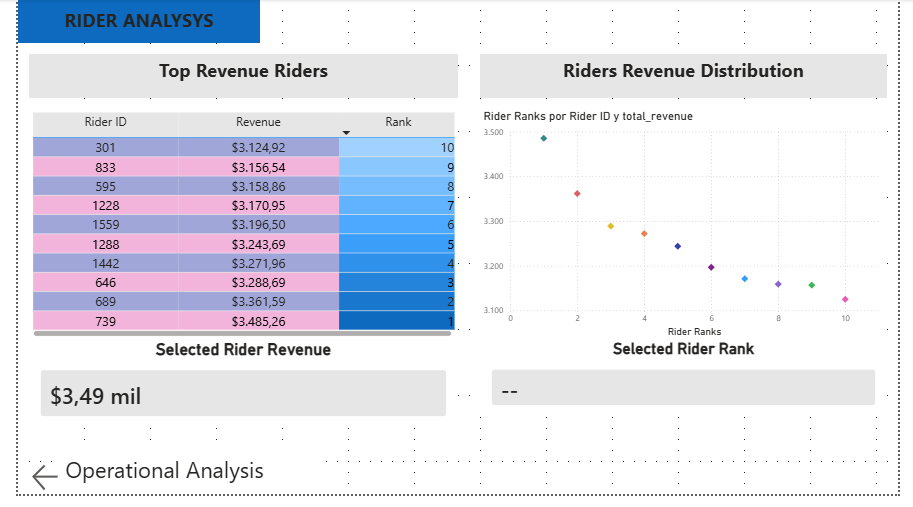

The dashboard page shown, as its layout file describes it:
{"tool":"powerbi","page":{"name":"Rider Analysis","canvas":[1280,720],"ordinal":3},"visuals":[{"type":"textbox","box":[0,0,352,64],"z":0},{"type":"textbox","box":[16,80,624,64],"z":1000},{"type":"textbox","box":[672,80,592,64],"z":2000},{"type":"tableEx","fields":{"Values":["8_top_revenue_riders.rider_id","8_top_revenue_riders.total_revenue","10_high_demand_zones.Rider Rank"]},"box":[16,160,624,336],"z":5000},{"type":"scatterChart","fields":{"X":["8_top_revenue_riders.Rider Ranks"],"Y":["8_top_revenue_riders.total_revenue"],"Series":["8_top_revenue_riders.rider_id"]},"box":[672,160,592,336],"z":6000},{"type":"cardVisual","title":"Selected Rider Revenue","fields":{"Data":["8_top_revenue_riders.Selected Rider Revenue"]},"box":[16,496,624,128],"z":6001},{"type":"cardVisual","title":"Selected Rider Rank","fields":{"Data":["8_top_revenue_riders.Selected Rider Rank"]},"box":[672,496,592,112],"z":6002},{"type":"actionButton","box":[16,672,128,48],"z":6003},{"type":"textbox","box":[64,656,384,64],"z":6004}]}

Visuals, with their boxes in screenshot pixels (x1, y1, x2, y2), scaled from the page's 1280x720 canvas onto the 913x507 screenshot:
textbox: BBox(0, 0, 251, 45)
textbox: BBox(11, 56, 456, 101)
textbox: BBox(479, 56, 902, 101)
tableEx - 8_top_revenue_riders.rider_id x 8_top_revenue_riders.total_revenue: BBox(11, 113, 456, 349)
scatterChart - 8_top_revenue_riders.Rider Ranks x 8_top_revenue_riders.total_revenue: BBox(479, 113, 902, 349)
"Selected Rider Revenue" cardVisual: BBox(11, 349, 456, 439)
"Selected Rider Rank" cardVisual: BBox(479, 349, 902, 428)
actionButton: BBox(11, 473, 103, 506)
textbox: BBox(46, 462, 320, 506)
